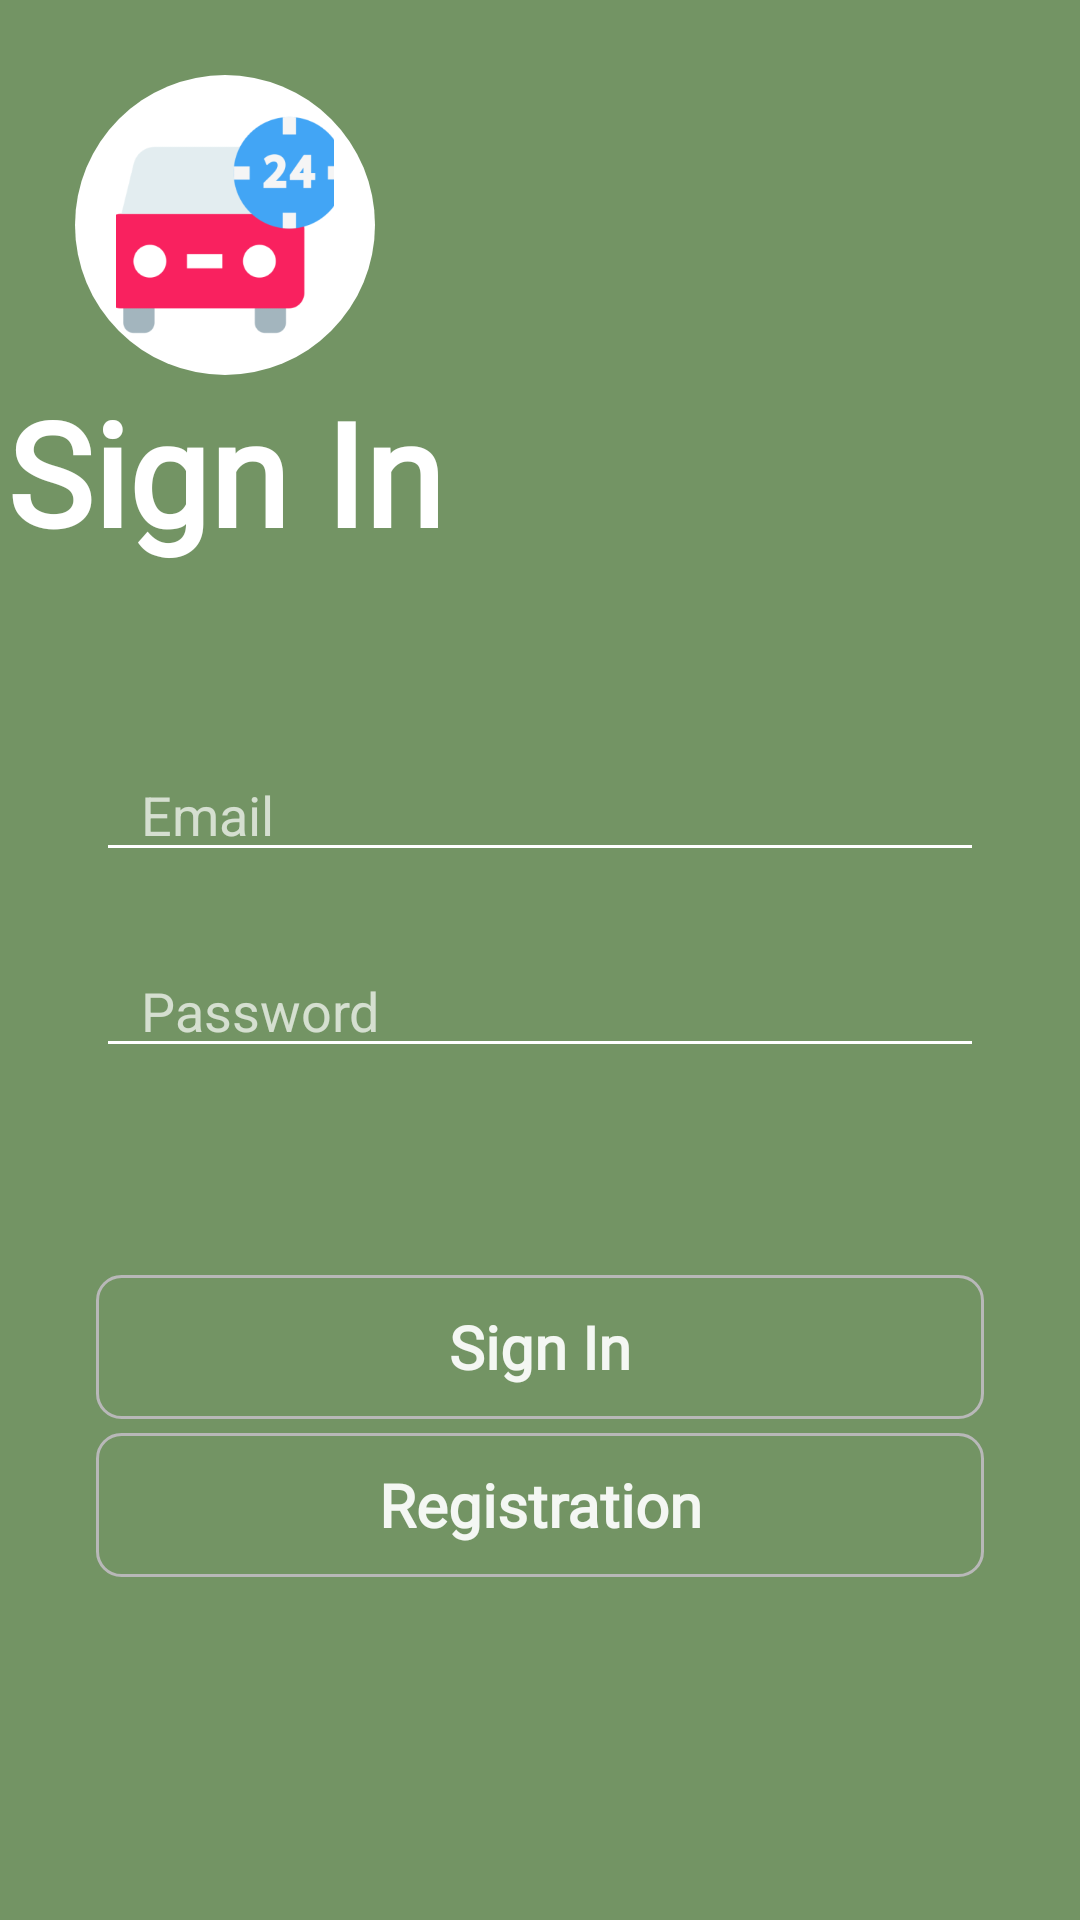

Locate icon controls on the screen. Image size 1080px×1920px, boxes as region(x1, y1, x2, y2).
car: region(75, 75, 375, 375)
